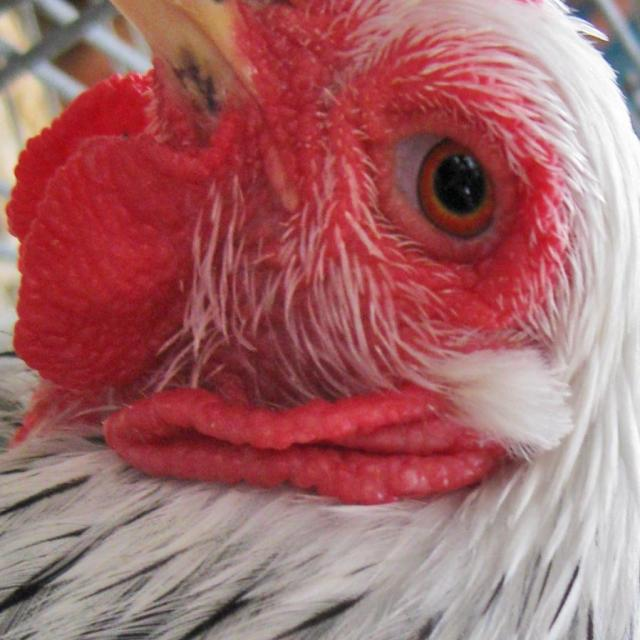Chicken: (65, 0, 640, 574)
